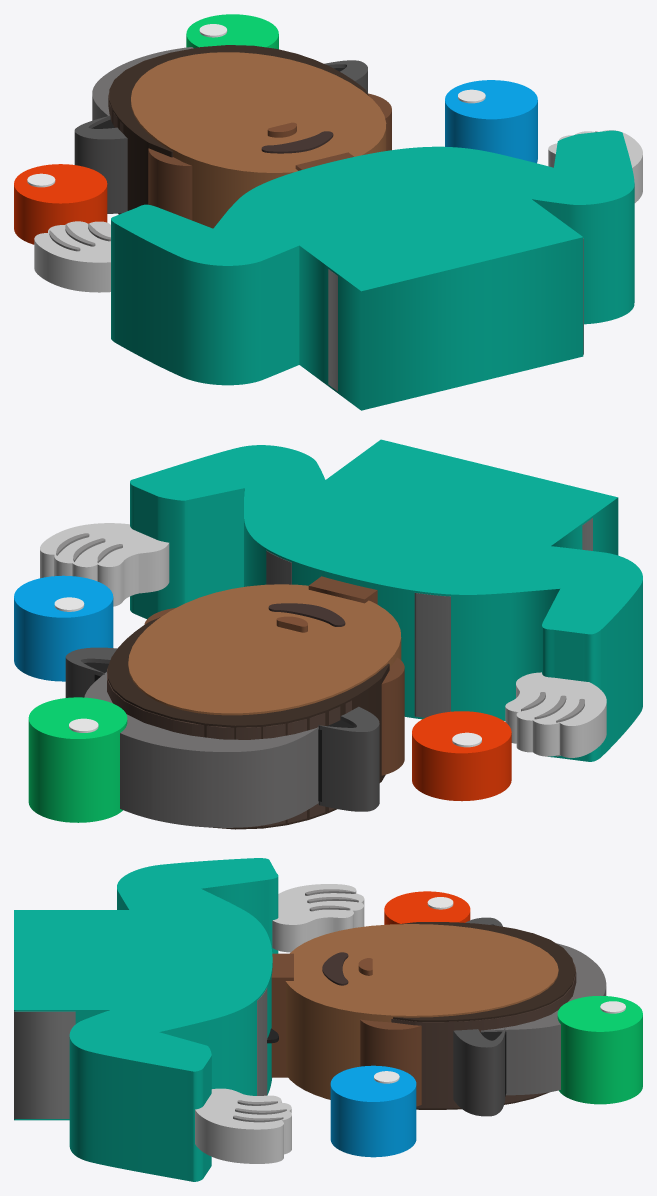
Rendered from emoji_u1f939_1f3fe_200d_2642.glb.
3 views of the same model, one above another, from view 1: azimuth 30°, elevation 25°; view 2: azimuth 150°, elevation 25°; view 3: azimuth 270°, elevation 25° (orthographic). The views are drawn at different scales.
Visible parts, largest first — view 1: emoji_u1f939_1f3fe_200d_2642; view 2: emoji_u1f939_1f3fe_200d_2642; view 3: emoji_u1f939_1f3fe_200d_2642.
Boxes of the visible parts, x1=… form: emoji_u1f939_1f3fe_200d_2642: x1=14, y1=14, x2=642, y2=410; emoji_u1f939_1f3fe_200d_2642: x1=14, y1=439, x2=642, y2=829; emoji_u1f939_1f3fe_200d_2642: x1=14, y1=858, x2=642, y2=1181.
Size of the model in its own units: 0.031 by 0.0064 by 0.0331.
